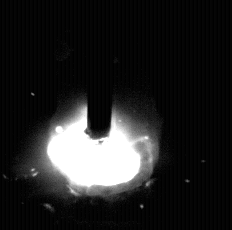arame: (88, 0, 113, 139)
poca: (47, 0, 159, 230)
